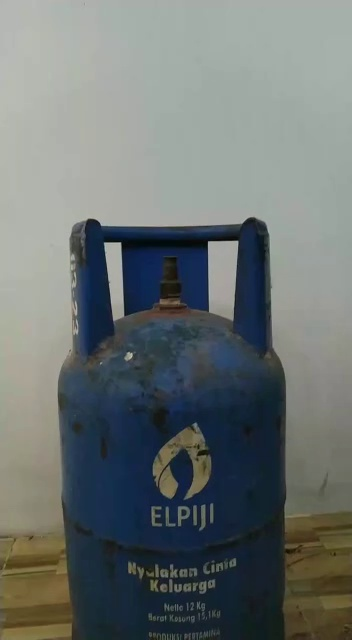blue_gas: (56, 216, 289, 640)
